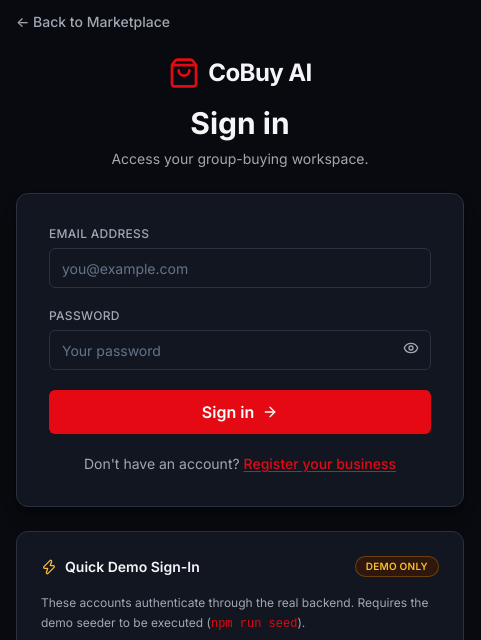
HIM-04: LoginPage › shows error when email format is invalid
Type "not-an-email" into the field labelled "Email address" at point(240, 268), box 49,248 -> 431,288
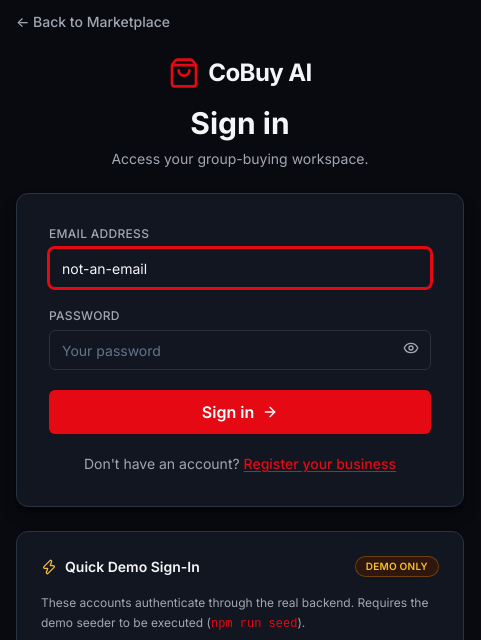
Click the button with aria-label "sign in to your account" at point(240, 412), box 49,390 -> 431,434
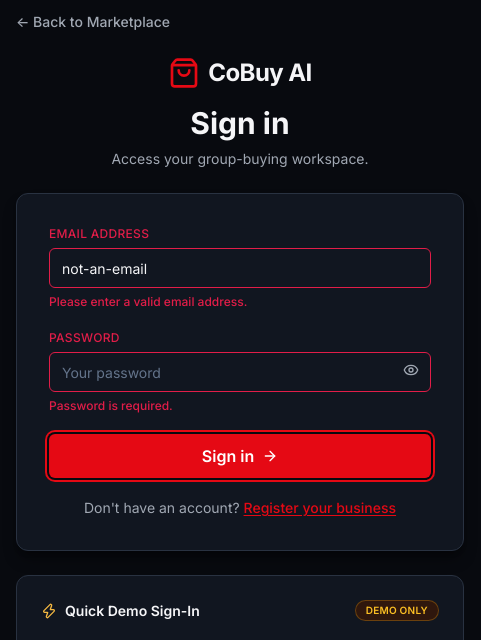
Now the text "Please enter a valid email address." is shown, box 49,294 -> 247,309
